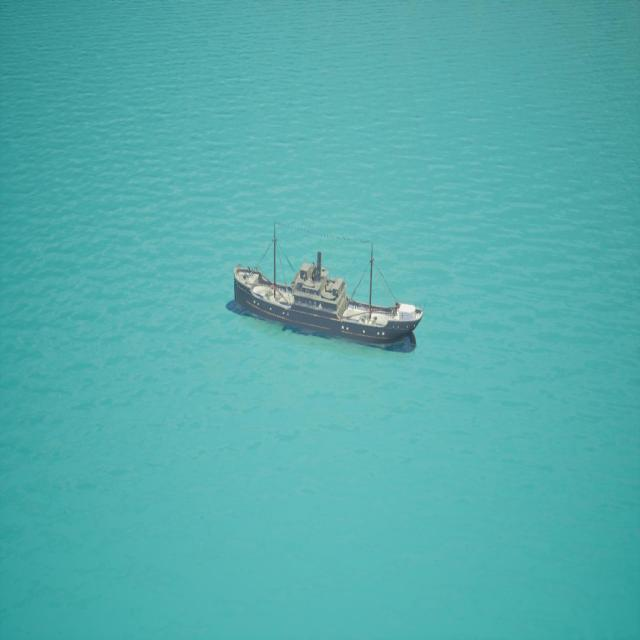fishing ship: (232, 231, 424, 351)
